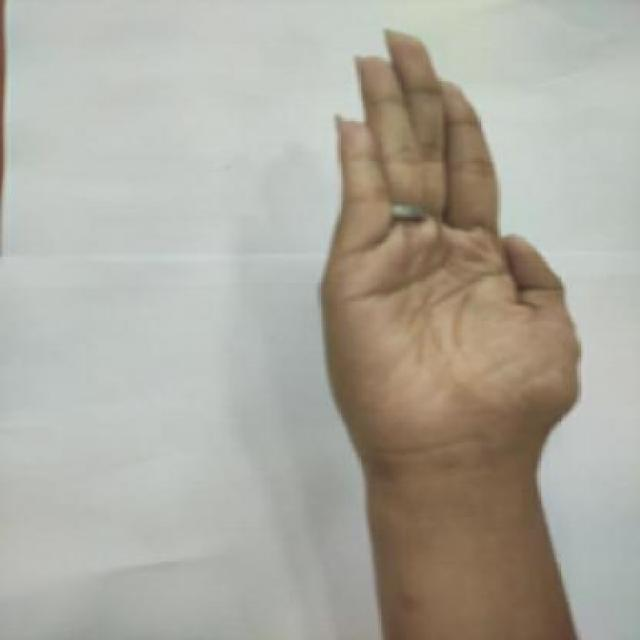without_gloves: (281, 19, 604, 504)
